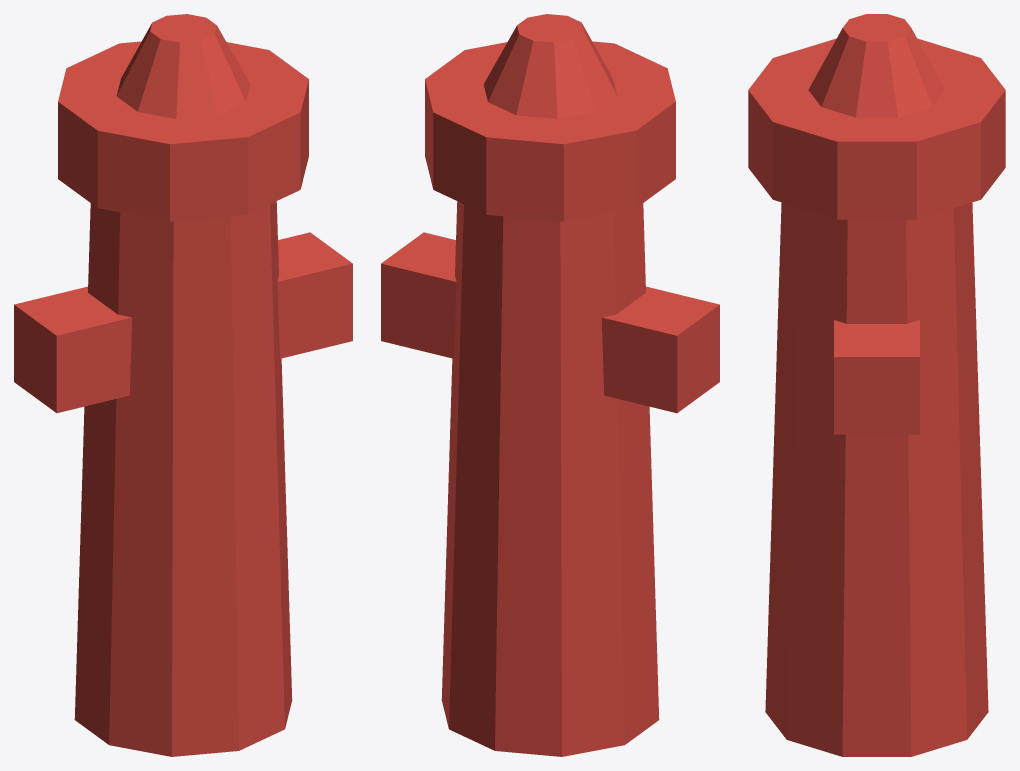
Rendered from hydrant.glb.
3 views of the same model, side by side, from view 1: azimuth 30°, elevation 25°; view 2: azimuth 150°, elevation 25°; view 3: azimuth 270°, elevation 25° (orthographic).
Parts seen in each view (by area): view 1: hydrant; view 2: hydrant; view 3: hydrant.
Part boxes in pixels (bbox=[...]): hydrant: bbox=[14, 14, 352, 756]; hydrant: bbox=[381, 14, 719, 756]; hydrant: bbox=[748, 14, 1005, 756].
Size of the model in its own units: 0.4 by 0.88 by 0.3.
